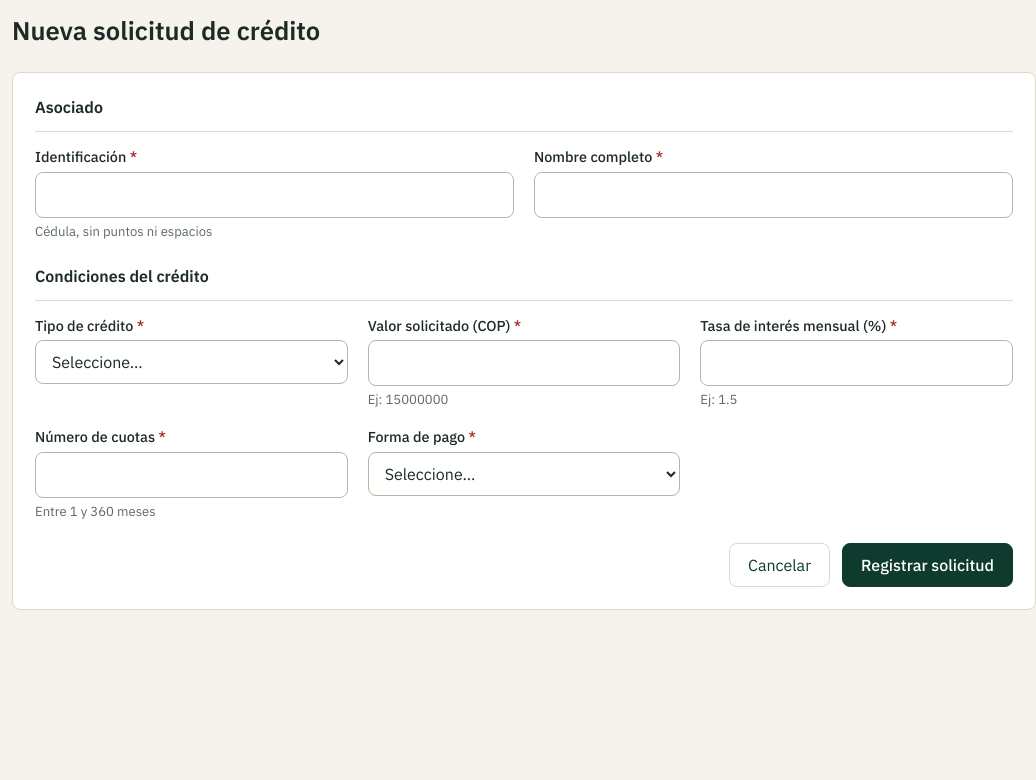
crear solicitud › rechaza valores fuera de rango
In the number field labelled "Número de cuotas *": (191, 475) x1=35 y1=452 x2=348 y2=498, type "0"
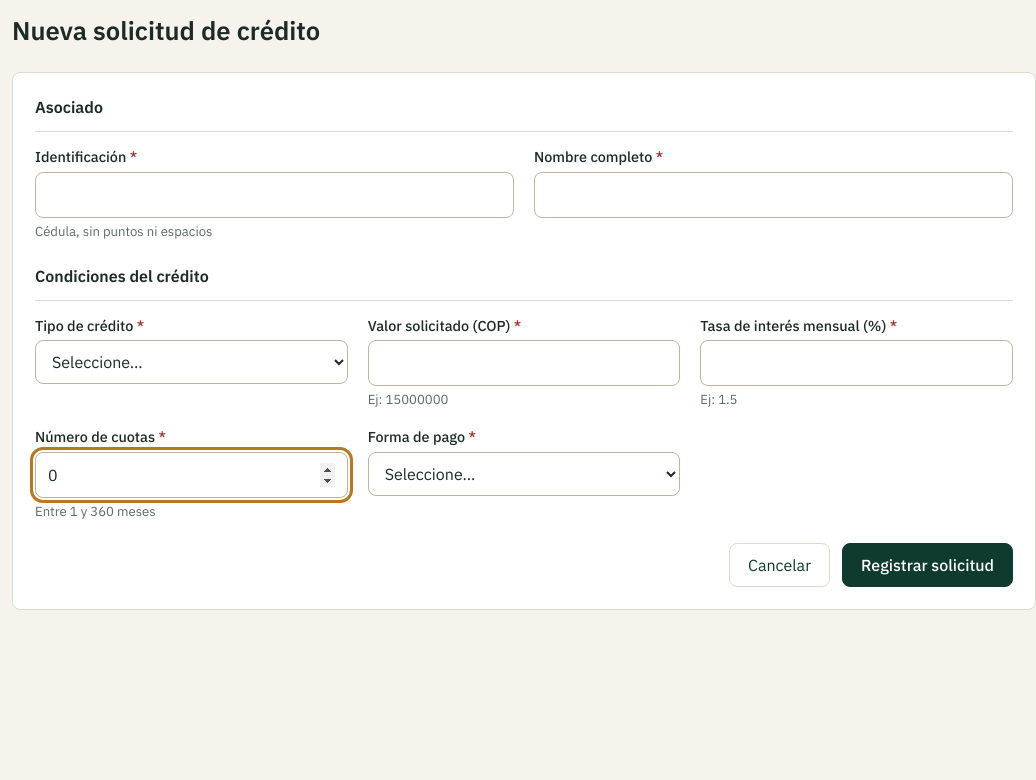
In the number field labelled "Tasa de interés mensual (%) *": (857, 363) x1=700 y1=340 x2=1013 y2=386, type "-2"
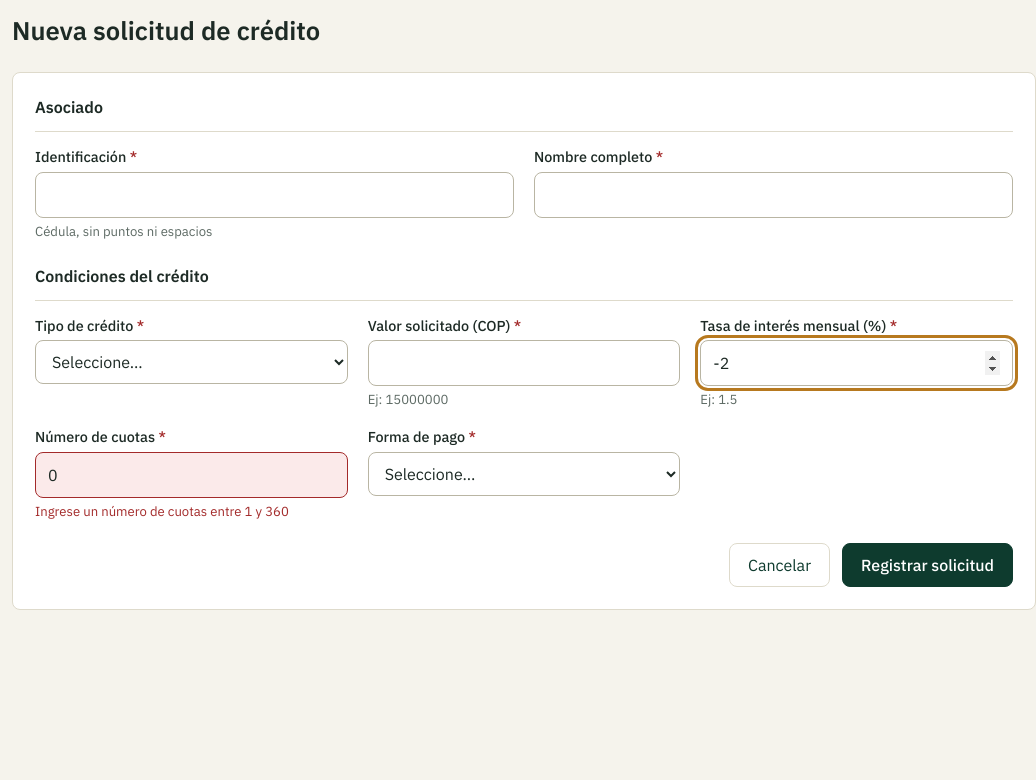
Click the button "Registrar solicitud": (928, 565) x1=842 y1=543 x2=1013 y2=587
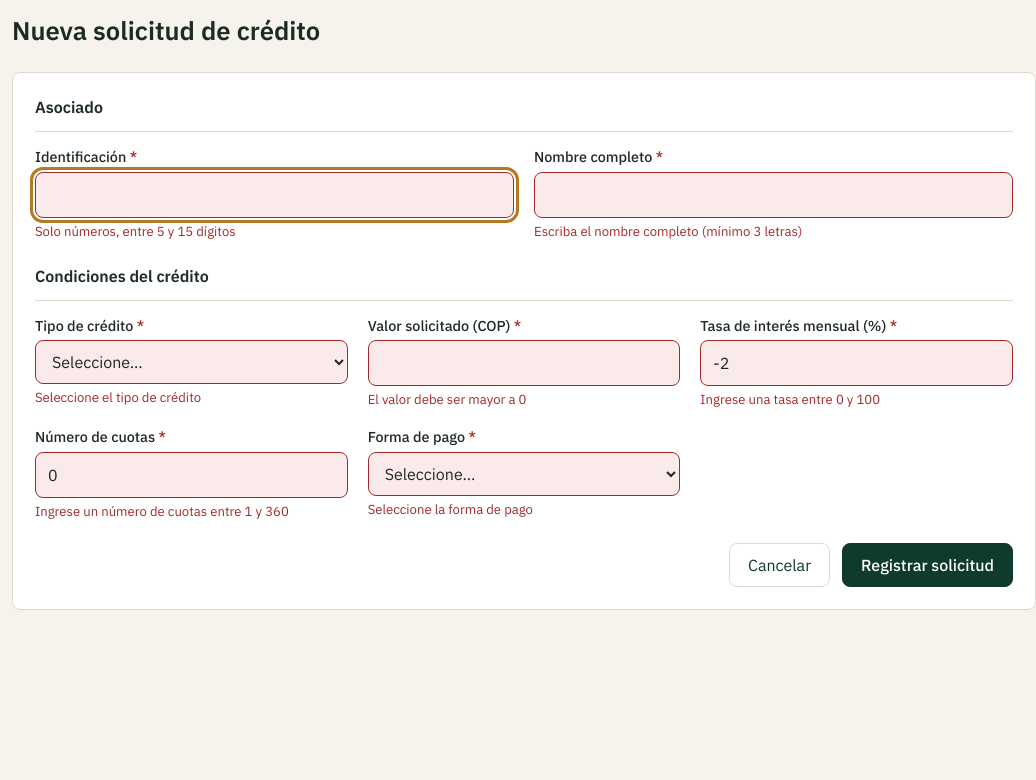
Expected: the text "Ingrese un número de cuotas entre 1 y 360" is shown, x1=35 y1=503 x2=289 y2=520
Expected: the text "Ingrese una tasa entre 0 y 100" is shown, x1=700 y1=391 x2=880 y2=408
